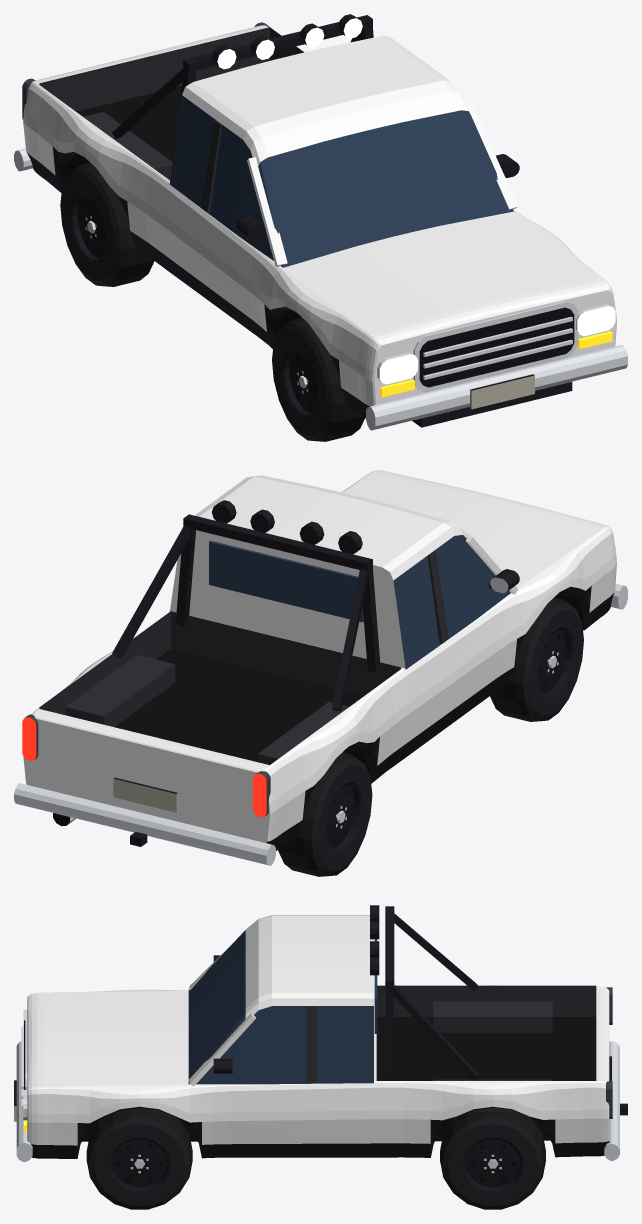
File: pickup.glb
3 renders of one model, top to bottom at view 1: azimuth 30°, elevation 25°; view 2: azimuth 150°, elevation 25°; view 3: azimuth 270°, elevation 25°, orthographic. The views are drawn at different scales.
Parts seen in each view (by area): view 1: paint, glass, stripe_a, chrome, trim, trim_soft, tire_side (×2), trim_grille, stripe_b, tire (×2), part_17 (×2), trim_under (+3 smaller); view 2: paint, trim_soft, trim, trim_under, glass, tire_side (×2), chrome, stripe_a, tire (×2), stripe_b, part_17 (×2), plate (+1 smaller); view 3: paint, glass, trim_under, trim, trim_soft, tire_side (×2), stripe_a, stripe_b, part_17 (×2), tire (×2), chrome.
Boxes of the visible parts, x1,y1,x2,y2 form: paint: [23, 25, 616, 406]; glass: [169, 95, 513, 267]; stripe_a: [106, 43, 536, 326]; chrome: [14, 148, 627, 430]; trim: [26, 14, 572, 427]; trim_soft: [39, 27, 303, 212]; tire_side (×2): [60, 168, 364, 441]; trim_grille: [419, 307, 574, 387]; stripe_b: [23, 112, 616, 381]; tire (×2): [76, 162, 364, 441]; part_17 (×2): [69, 192, 317, 418]; trim_under: [63, 86, 301, 339]; paint: [23, 470, 616, 843]; trim_soft: [39, 551, 448, 764]; trim: [112, 500, 614, 850]; trim_under: [53, 589, 584, 826]; glass: [209, 535, 510, 669]; tire_side (×2): [278, 603, 583, 875]; chrome: [14, 546, 627, 865]; stripe_a: [105, 486, 533, 755]; tire (×2): [278, 597, 568, 876]; stripe_b: [269, 554, 616, 813]; part_17 (×2): [326, 627, 574, 853]; plate: [113, 778, 178, 812]; paint: [27, 915, 609, 1145]; glass: [188, 930, 377, 1084]; trim_under: [82, 1017, 596, 1141]; trim: [14, 905, 627, 1158]; trim_soft: [306, 985, 596, 1111]; tire_side (×2): [89, 1119, 543, 1209]; stripe_a: [27, 936, 609, 1058]; stripe_b: [27, 1099, 609, 1123]; part_17 (×2): [109, 1138, 523, 1192]; tire (×2): [86, 1108, 545, 1193]; chrome: [16, 1009, 619, 1161].
Size of the model in its own units: 1.98 by 1.9 by 4.64.
